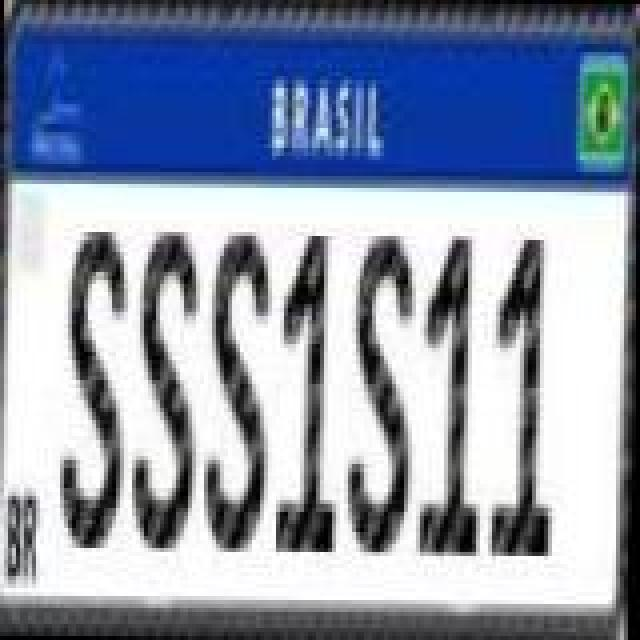1: (272, 224, 348, 560), (416, 234, 492, 570), (490, 228, 562, 564)
S: (60, 226, 136, 550), (132, 228, 208, 552), (204, 228, 280, 552), (346, 226, 418, 562)
